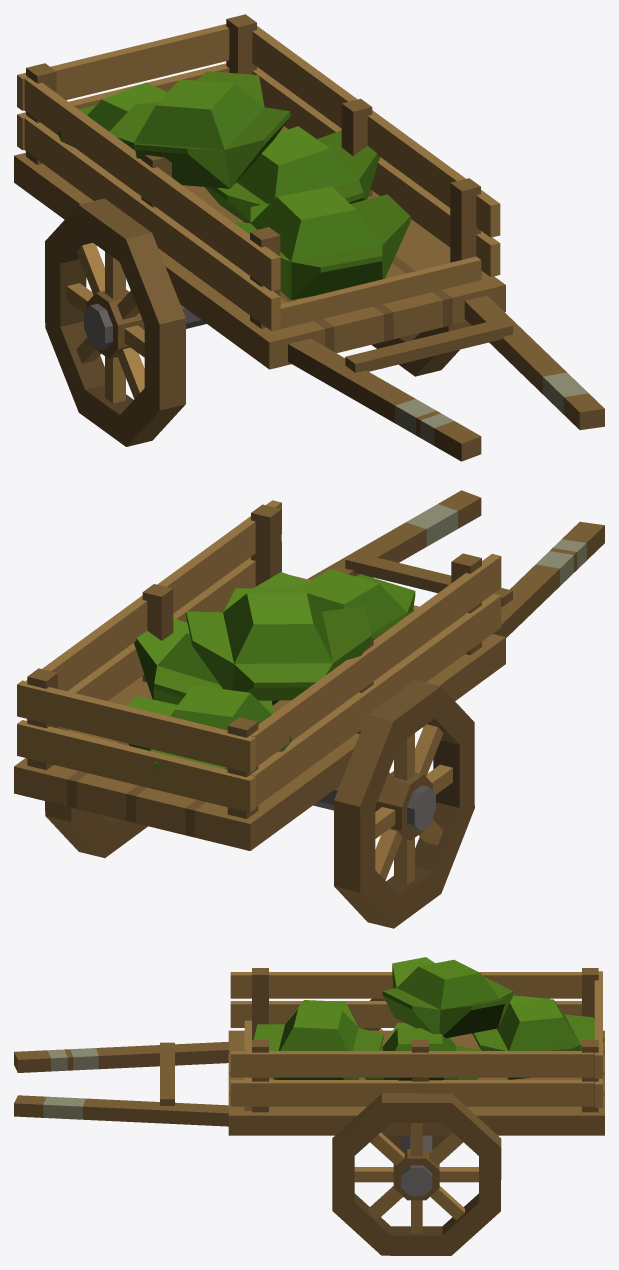
Rendered from Cart_Food.gltf.
3 renders of one model, top to bottom at view 1: azimuth 30°, elevation 25°; view 2: azimuth 150°, elevation 25°; view 3: azimuth 270°, elevation 25°, orthographic. The views are drawn at different scales.
Visible parts, largest first — view 1: SF_Prop_Cart_Food_01; view 2: SF_Prop_Cart_Food_01; view 3: SF_Prop_Cart_Food_01.
Part boxes in pixels (x1,y1,x2,y2): SF_Prop_Cart_Food_01: [14, 14, 604, 461]; SF_Prop_Cart_Food_01: [14, 490, 604, 928]; SF_Prop_Cart_Food_01: [14, 957, 604, 1255].
Size of the model in its own units: 0.0355 by 0.0303 by 0.0745.
Materials: 1 (1 with a texture image).
